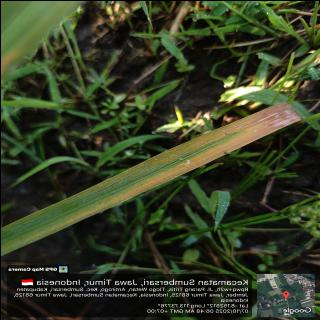Hawar-Daun: (79, 102, 298, 218)
